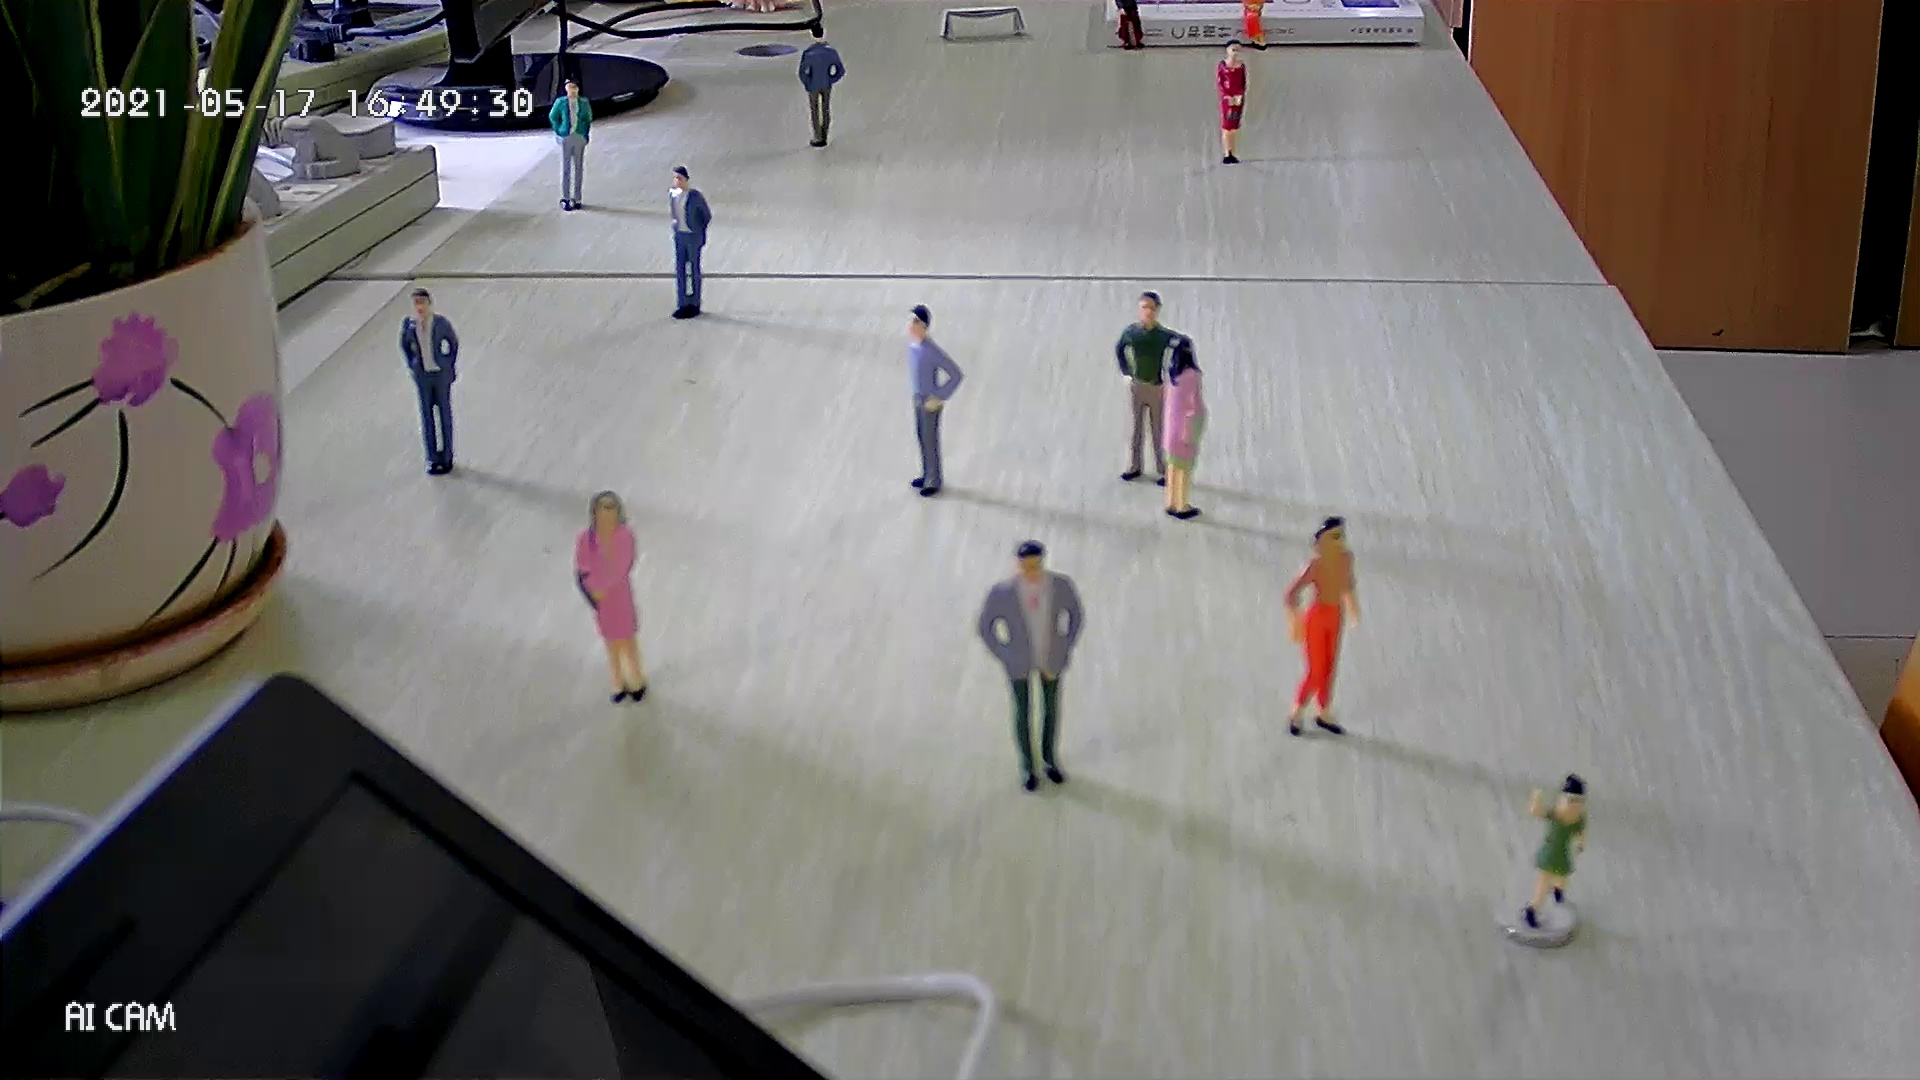person: (971, 536, 1089, 794), (1277, 510, 1375, 740), (569, 484, 653, 706), (1109, 288, 1185, 492), (901, 300, 967, 496), (397, 286, 463, 476), (1519, 772, 1595, 934), (1157, 330, 1211, 522), (663, 162, 717, 324), (795, 22, 849, 150), (549, 74, 593, 214), (1215, 36, 1251, 166), (1112, 1, 1151, 56), (1237, 1, 1273, 52)
